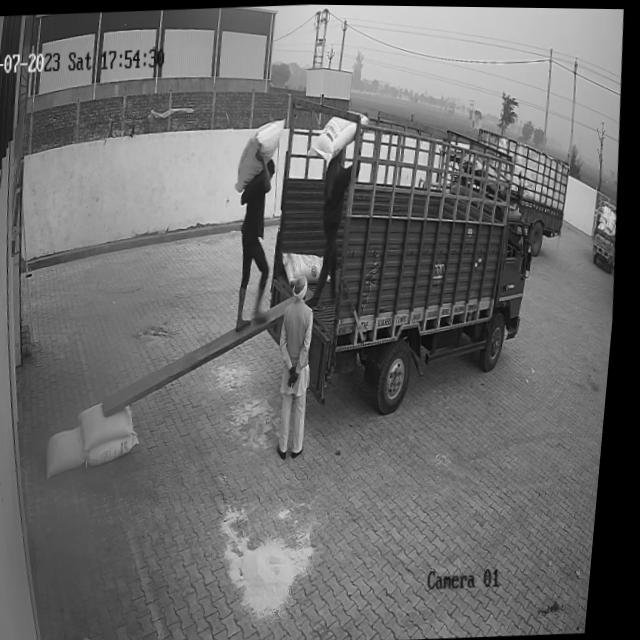sack: (233, 116, 291, 194), (82, 401, 143, 450), (51, 425, 96, 478), (92, 431, 147, 466), (283, 247, 329, 287)
